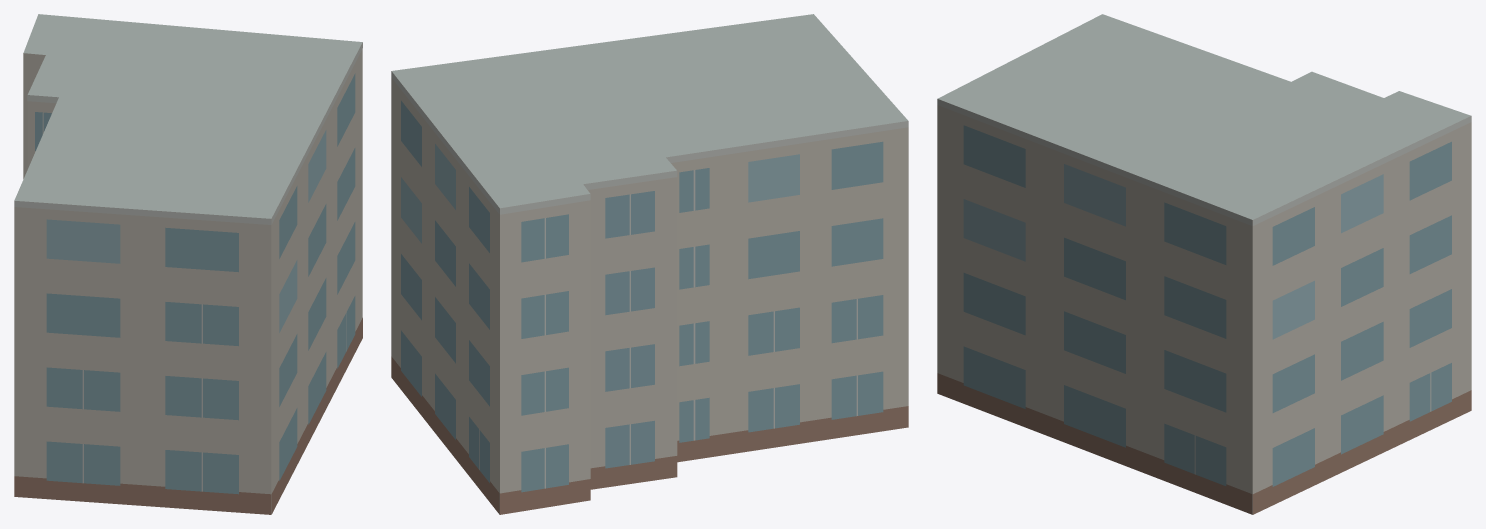
Rendered from survey-upis-32987106.glb.
The picture shows the model from 3 angles, left to right: view 1: azimuth 30°, elevation 25°; view 2: azimuth 150°, elevation 25°; view 3: azimuth 270°, elevation 25°; orthographic projection. The views are drawn at different scales.
Parts seen in each view (by area): view 1: survey-upis-32987106.tmp; view 2: survey-upis-32987106.tmp; view 3: survey-upis-32987106.tmp.
Boxes of the visible parts, <box> form: survey-upis-32987106.tmp: <box>14,14,362,514</box>; survey-upis-32987106.tmp: <box>391,14,908,514</box>; survey-upis-32987106.tmp: <box>937,14,1471,514</box>.
Size of the model in its own units: 17.39 by 11.6 by 19.05.
